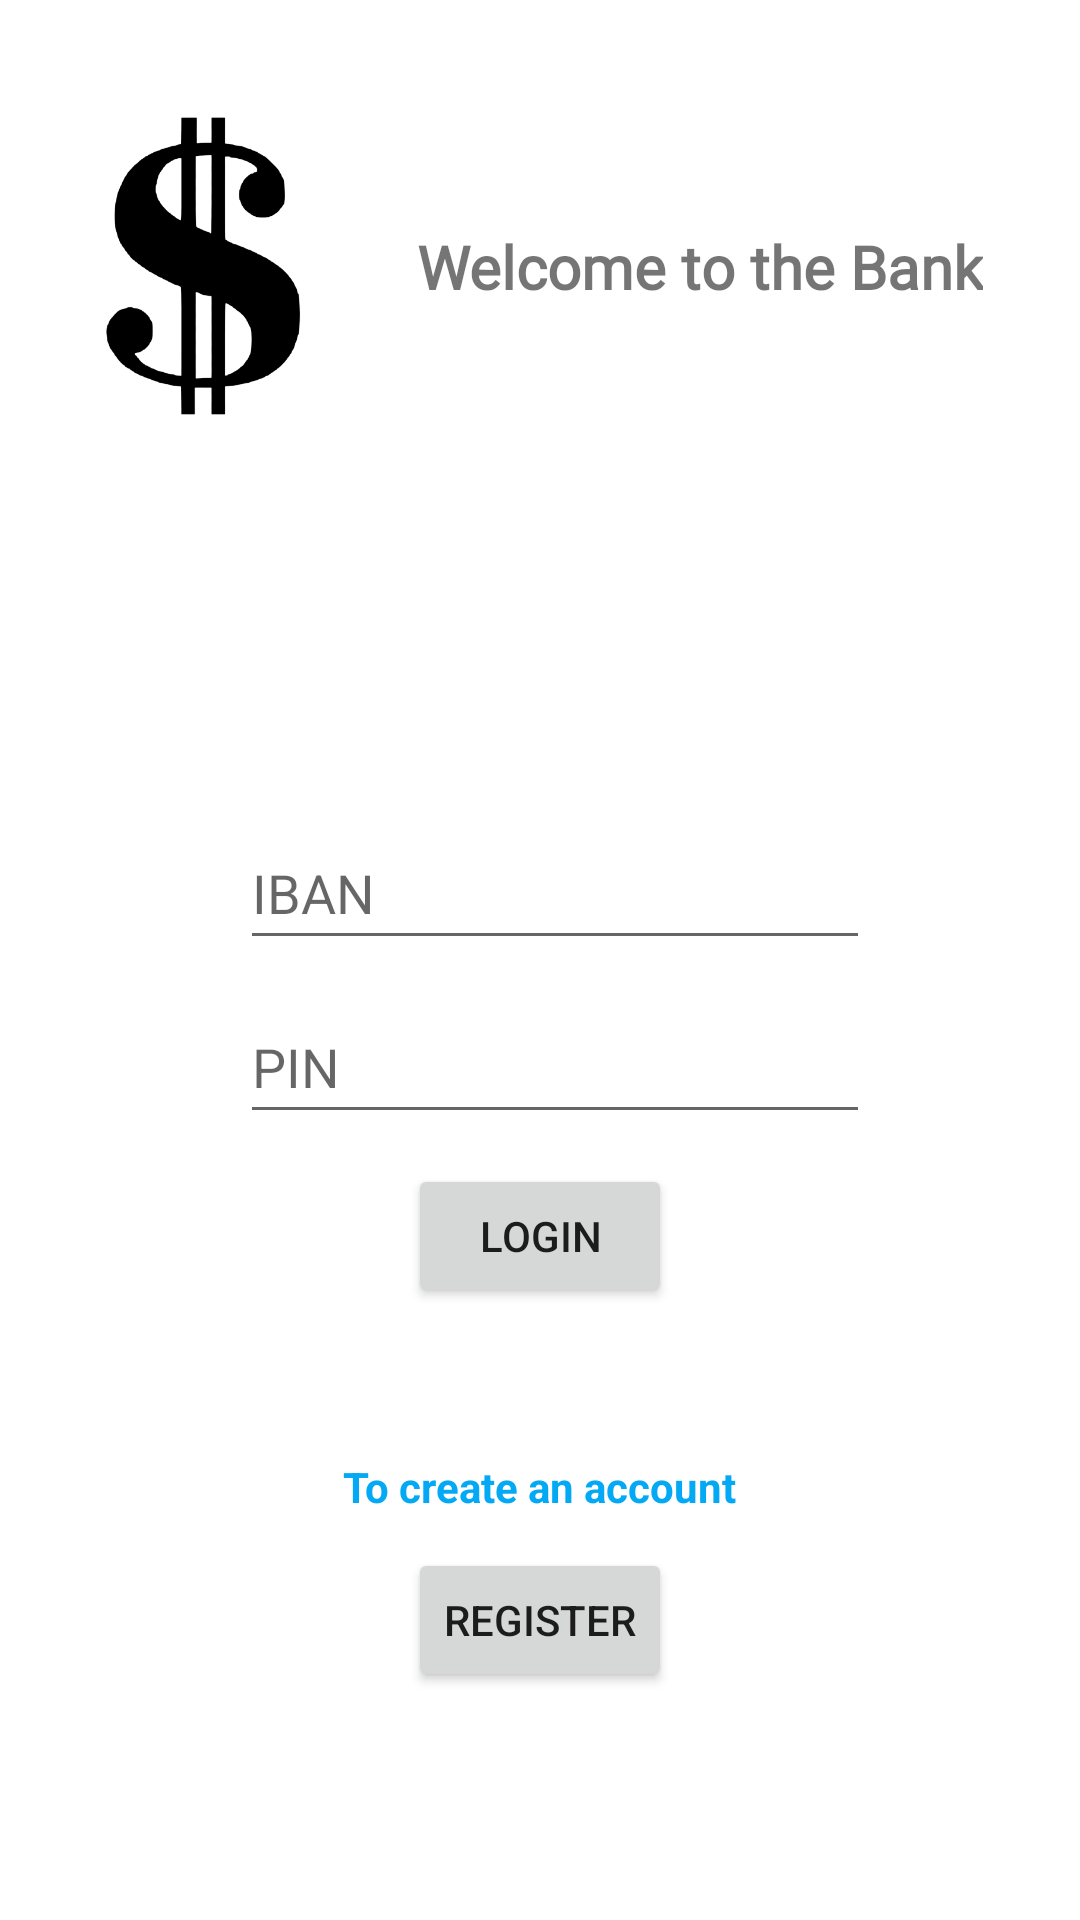

Where to tap for icons on this 1080px×1920px app screen, as point (x, y):
dolar sign intro: point (203, 266)
